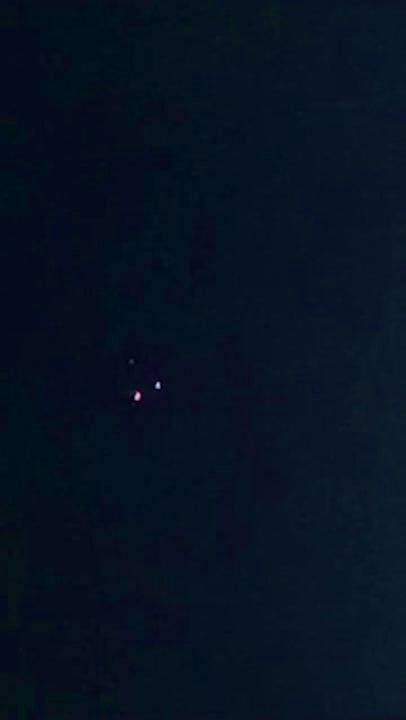Plane: (121, 379, 153, 414)
